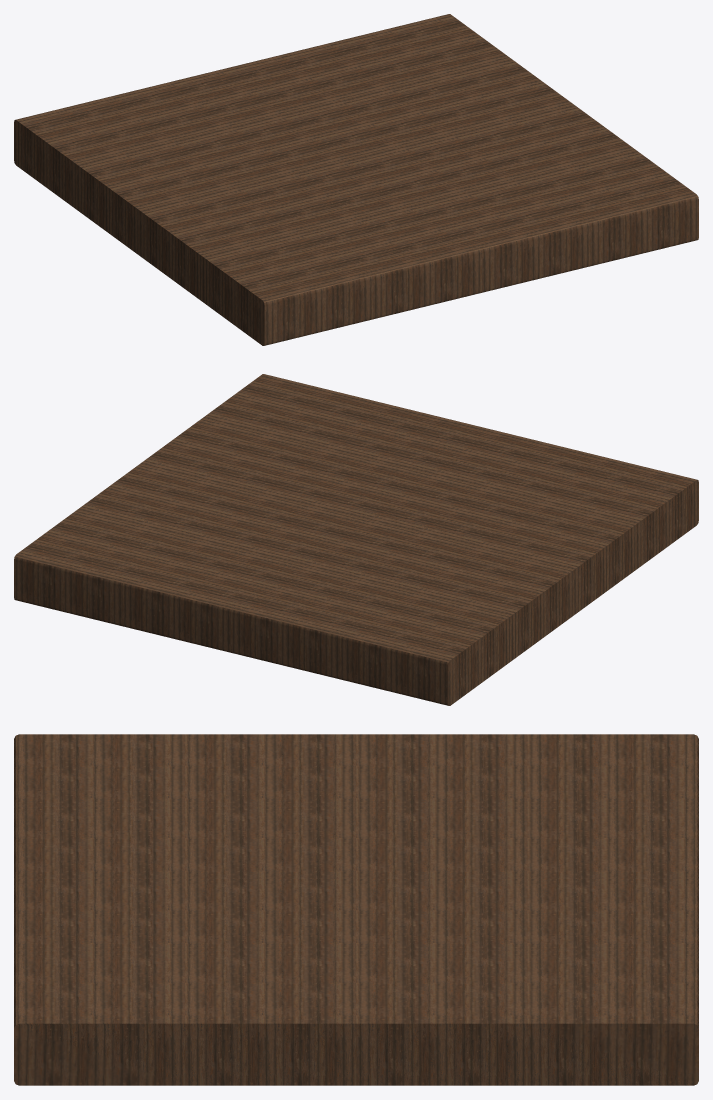
The model's file is planterWall.fbx.
The picture shows the model from 3 angles, top to bottom: view 1: azimuth 30°, elevation 25°; view 2: azimuth 150°, elevation 25°; view 3: azimuth 270°, elevation 25°; orthographic projection. The views are drawn at different scales.
Visible parts, largest first — view 1: pCube1; view 2: pCube1; view 3: pCube1.
Boxes of the visible parts, x1=… form: pCube1: x1=14, y1=14, x2=698, y2=345; pCube1: x1=14, y1=374, x2=698, y2=705; pCube1: x1=14, y1=734, x2=698, y2=1085.
Size of the model in its own units: 1000 by 100 by 1000.
